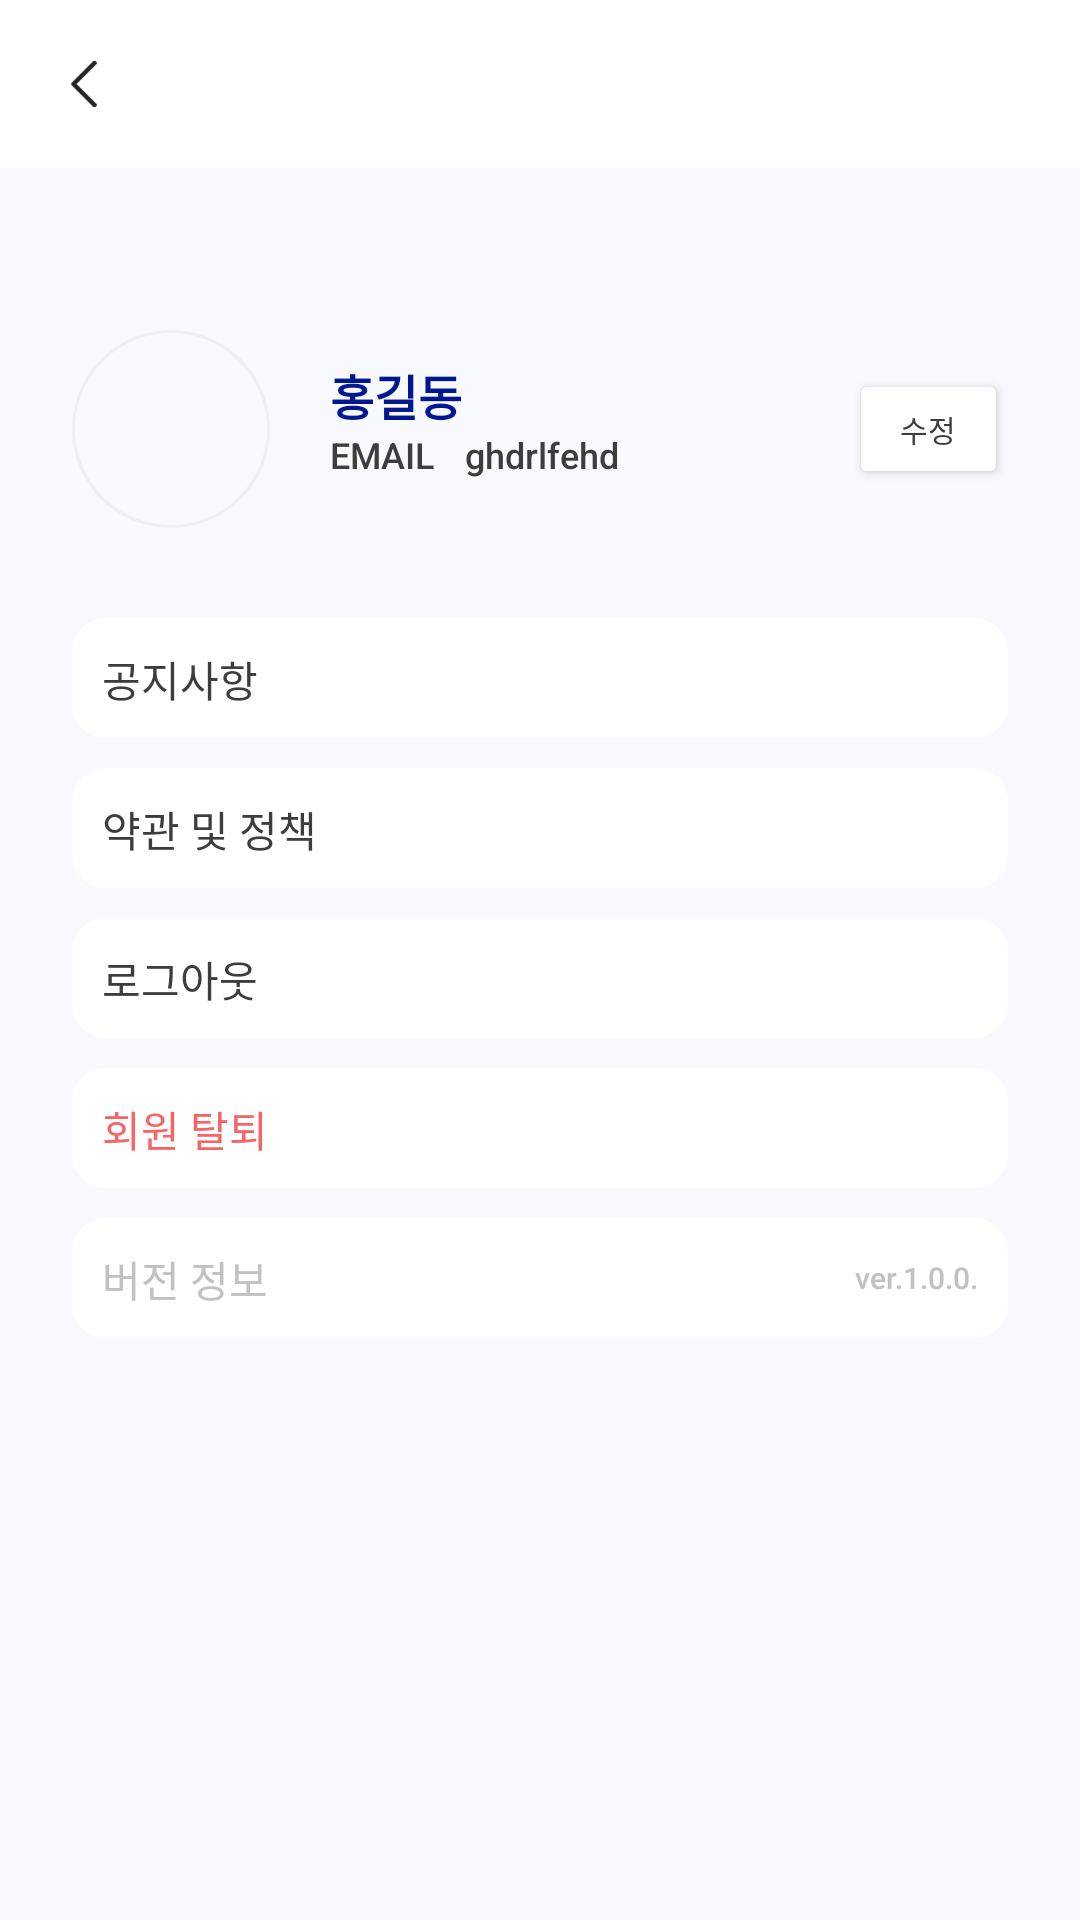

Icons on this 1080×1920 Android screen, each with the point to tap as [x,y]:
arrow: [84,84]
